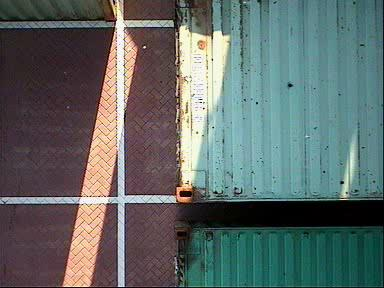groundmarker_2: (199, 164, 231, 219), (200, 1, 226, 31)
